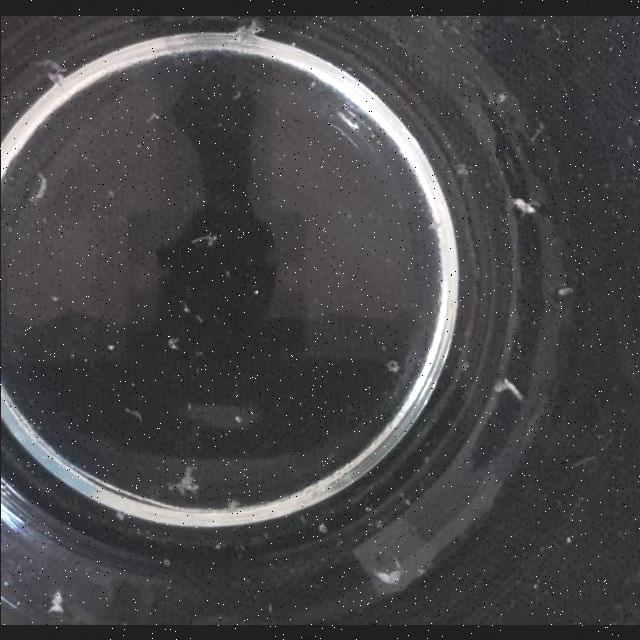Fibre: (494, 376, 522, 399), (46, 592, 64, 614), (124, 408, 140, 422)
microbeads: (39, 58, 67, 86), (556, 286, 572, 296), (168, 336, 180, 349), (495, 92, 507, 104), (230, 90, 240, 100), (194, 313, 202, 323), (106, 189, 114, 199), (106, 344, 115, 352), (234, 416, 242, 424), (182, 304, 190, 312), (222, 270, 230, 278), (308, 80, 316, 88), (252, 288, 258, 296), (50, 296, 58, 302), (565, 536, 571, 544), (532, 582, 538, 590)
